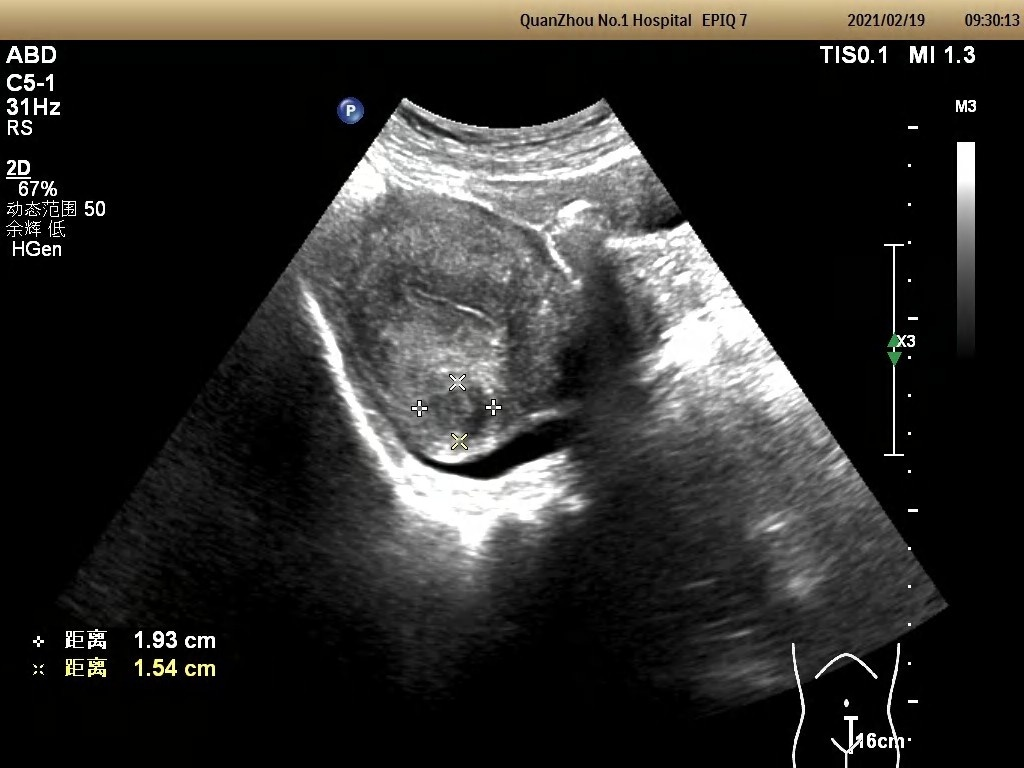肌瘤: (430, 391, 484, 438)
